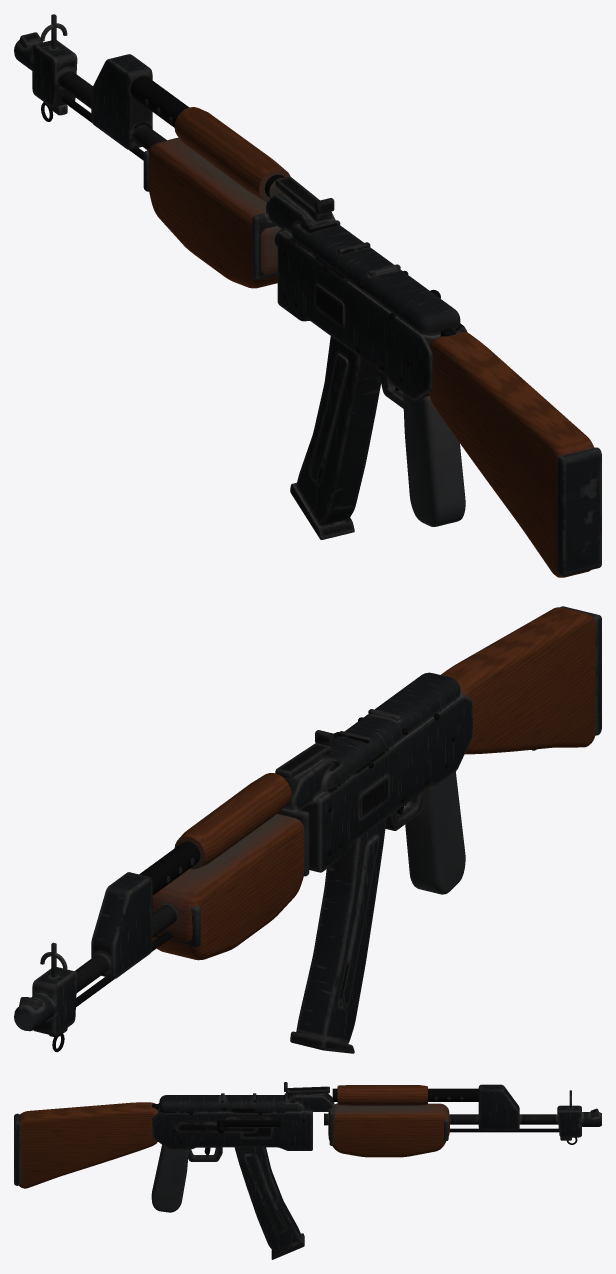
3 views of the same model, one above another, from view 1: azimuth 30°, elevation 25°; view 2: azimuth 150°, elevation 25°; view 3: azimuth 270°, elevation 25° (orthographic). The views are drawn at different scales.
Visible parts, largest first — view 1: body_furniture, body_receiver, mag_receiver, body_metal; view 2: body_furniture, body_receiver, mag_receiver, body_metal; view 3: body_furniture, body_receiver, mag_receiver, body_metal, bolt_metal.
Part boxes in pixels (x1=…): body_furniture: x1=148, y1=107, x2=594, y2=577; body_receiver: x1=14, y1=14, x2=601, y2=576; mag_receiver: x1=290, y1=336, x2=380, y2=539; body_metal: x1=41, y1=76, x2=456, y2=390; body_furniture: x1=152, y1=607, x2=595, y2=960; body_receiver: x1=14, y1=606, x2=601, y2=1036; mag_receiver: x1=290, y1=818, x2=386, y2=1053; body_metal: x1=52, y1=713, x2=536, y2=1052; body_furniture: x1=19, y1=1085, x2=449, y2=1212; body_receiver: x1=14, y1=1082, x2=601, y2=1185; mag_receiver: x1=234, y1=1147, x2=304, y2=1259; body_metal: x1=152, y1=1088, x2=577, y2=1155; bolt_metal: x1=217, y1=1120, x2=280, y2=1133.
Bounding box in the file's own units: 0.0858 × 0.3286 × 1.02.
5 materials, 5 textured.
